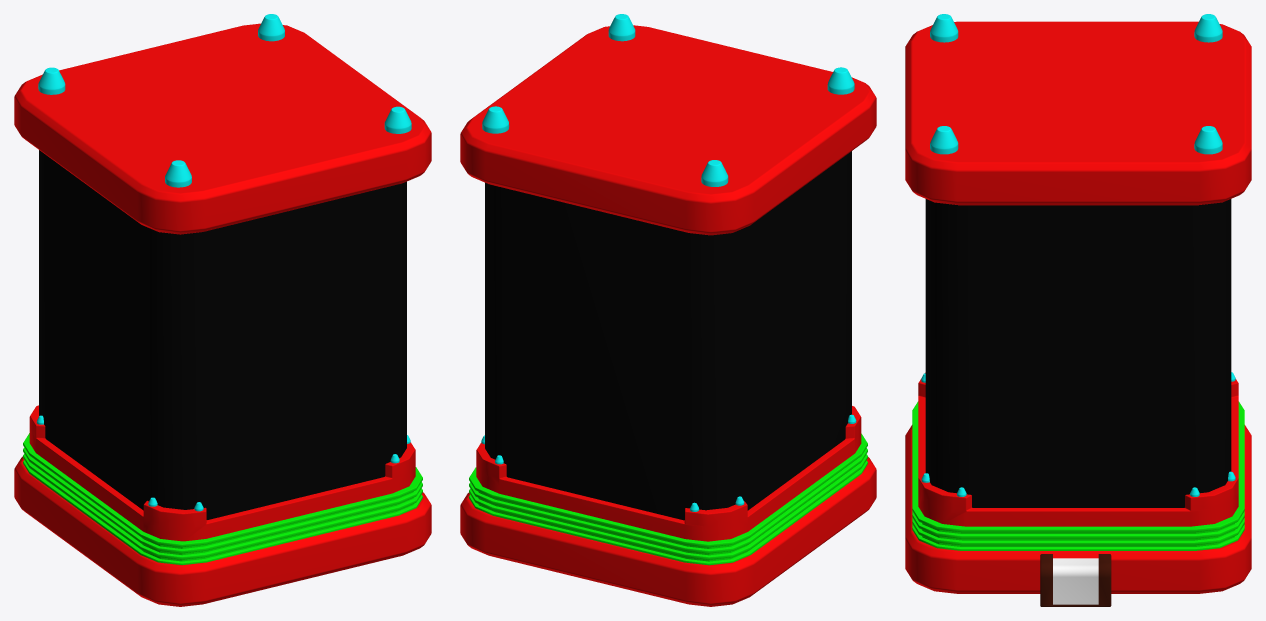
File: Terraium.fbx
The picture shows the model from 3 angles, left to right: view 1: azimuth 30°, elevation 25°; view 2: azimuth 150°, elevation 25°; view 3: azimuth 270°, elevation 25°; orthographic projection. The views are drawn at different scales.
Visible parts, largest first — view 1: Case; view 2: Case; view 3: Case.
Boxes of the visible parts, x1,y1,x2,y2 form: Case: [14, 14, 431, 606]; Case: [460, 14, 876, 606]; Case: [905, 14, 1251, 606].
Size of the model in its own units: 52.71 by 70.25 by 48.88.
